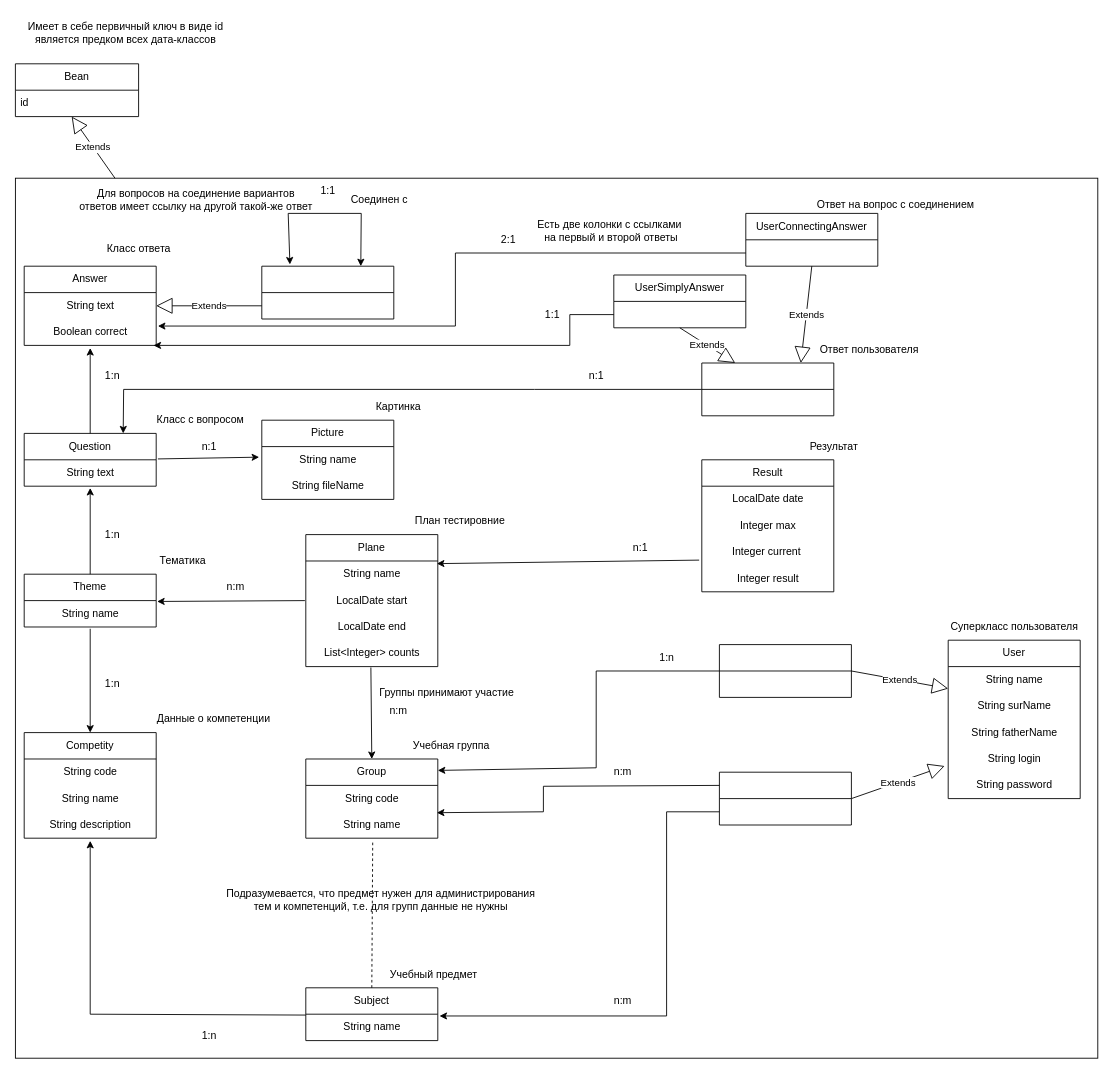
Image size: 1113x1074. Some labels were removed from this diagram. The shapes that lost their labels are listed below. From the top down, each one's centre as x and y in pixels, then its label:
At pixel 327 292: "ConnectedAnswer".
At pixel 767 389: "UserAnswer".
At pixel 785 670: "Student".
At pixel 785 798: "Teacher".
